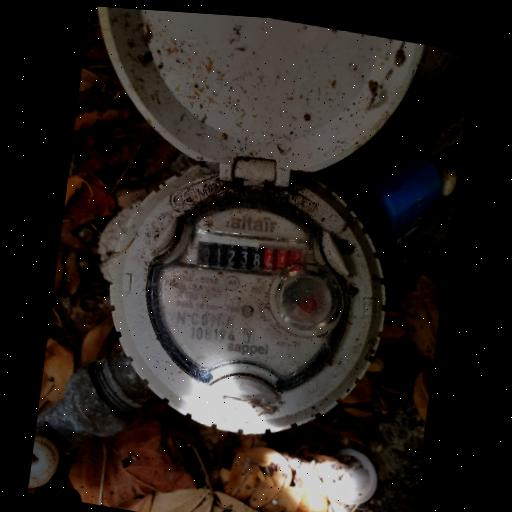0: (195, 240, 215, 268)
1: (272, 247, 292, 275), (211, 242, 227, 269), (287, 249, 306, 268)
2: (222, 243, 240, 270)
3: (236, 245, 252, 271)
4: (260, 247, 278, 274)
8: (247, 245, 265, 273)
border_water_meter_number: (187, 225, 311, 289)
